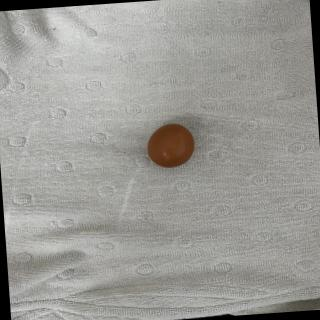Telur: (146, 120, 199, 173)
